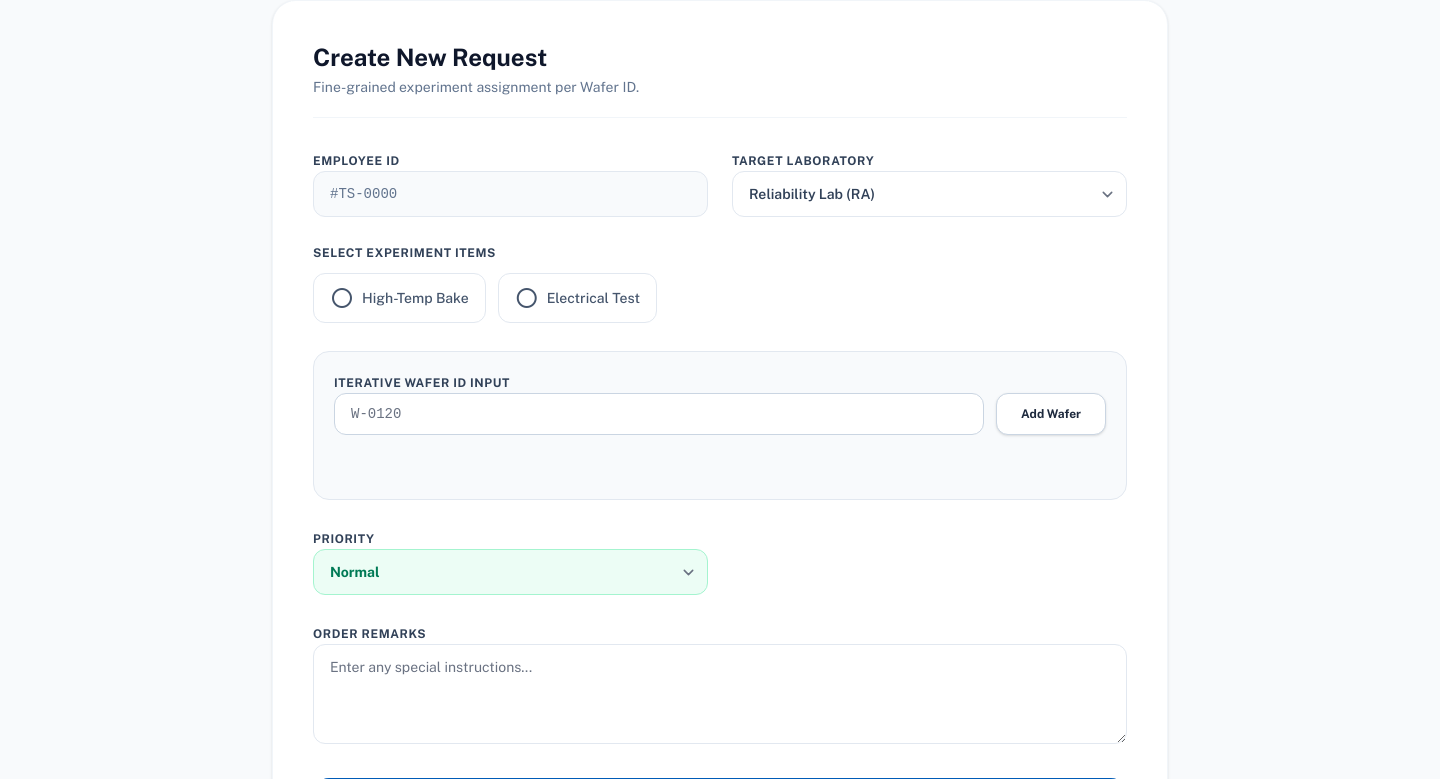
Test case: FabRequestView - Enterprise Order Provisioning Testing Suite › should prevent submission if no experiments are selected
Type "W-1111" into the field with placeholder "W-0120" at (659, 414), box [334,393,984,435]
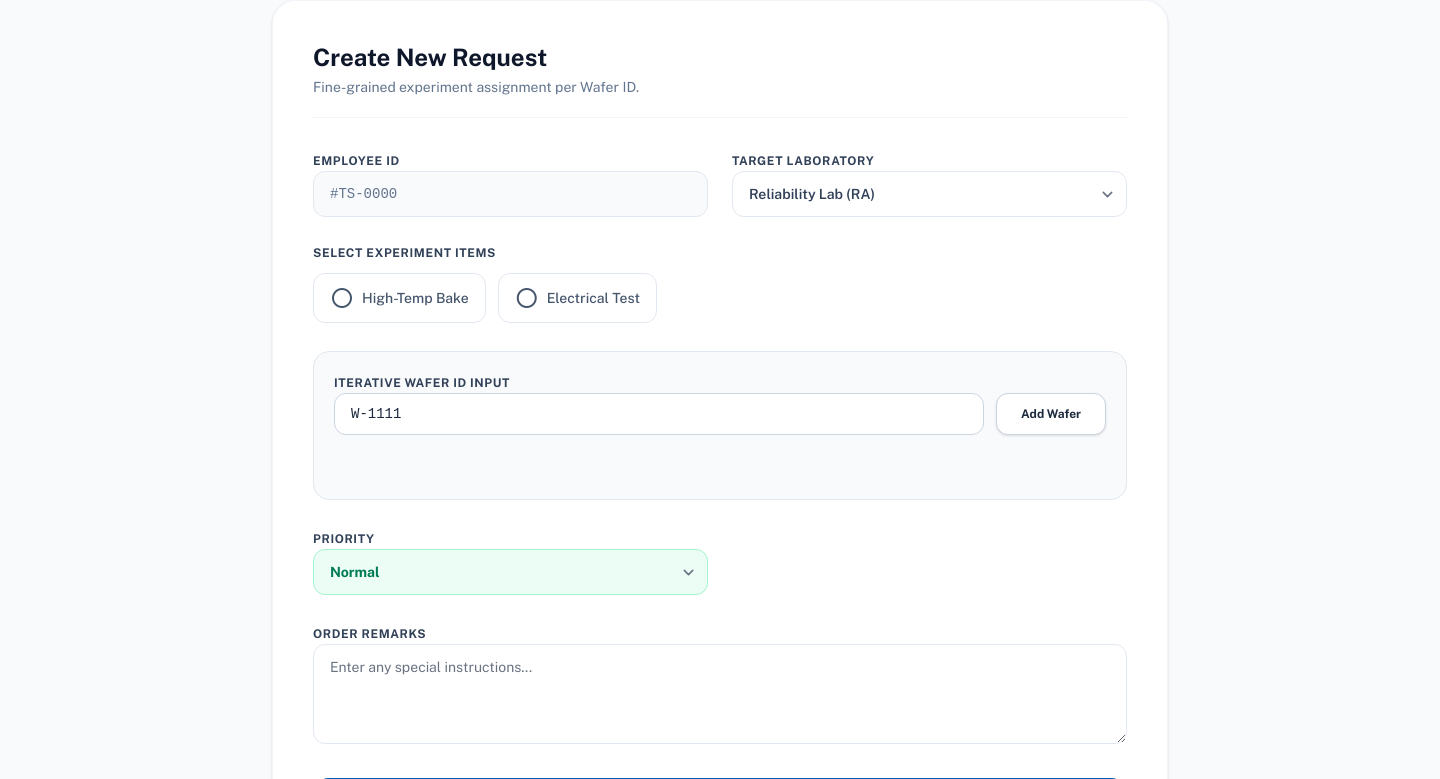
Click the button "Add Wafer" at (1051, 414), box [996,393,1106,435]
(page scrolled)
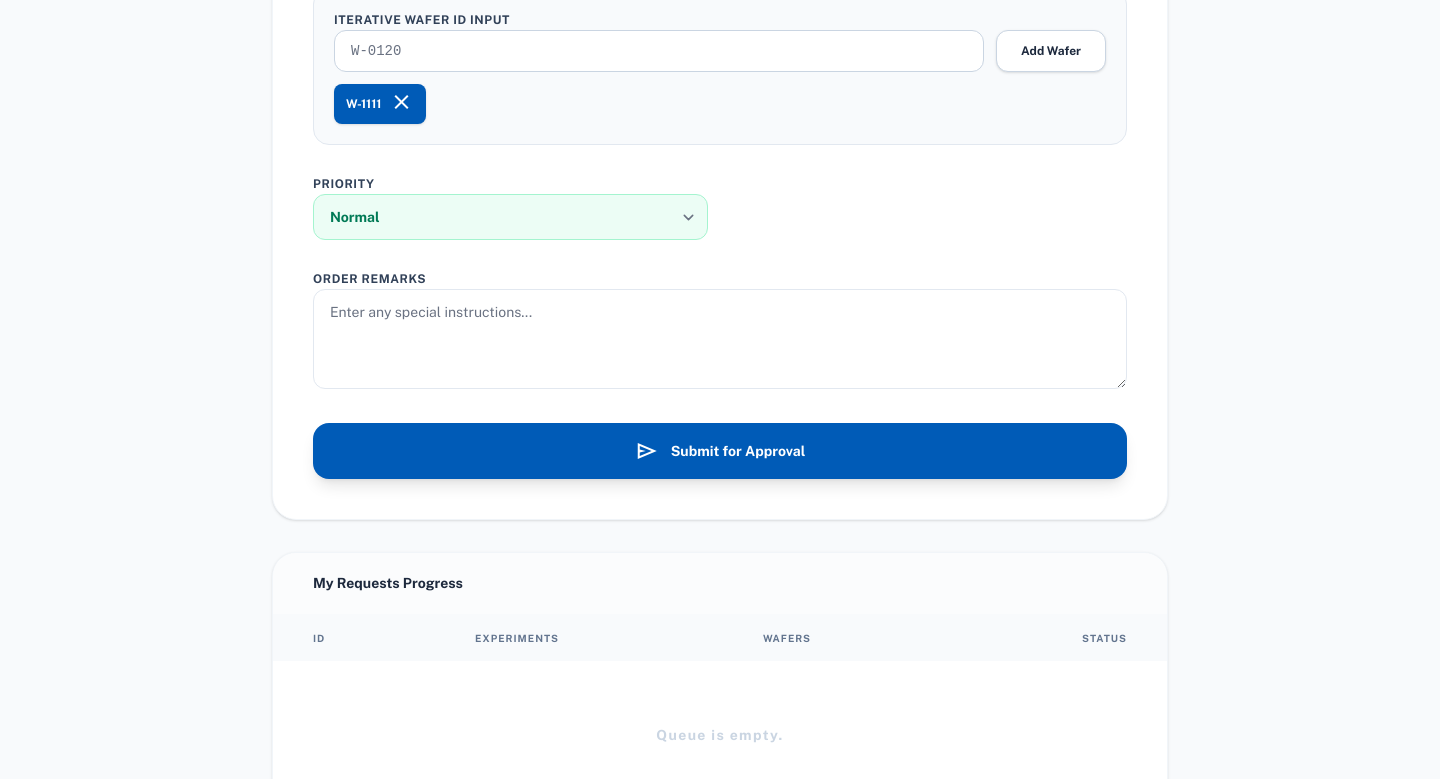
Click the button "Submit for Approval" at (720, 451), box [313,423,1127,479]
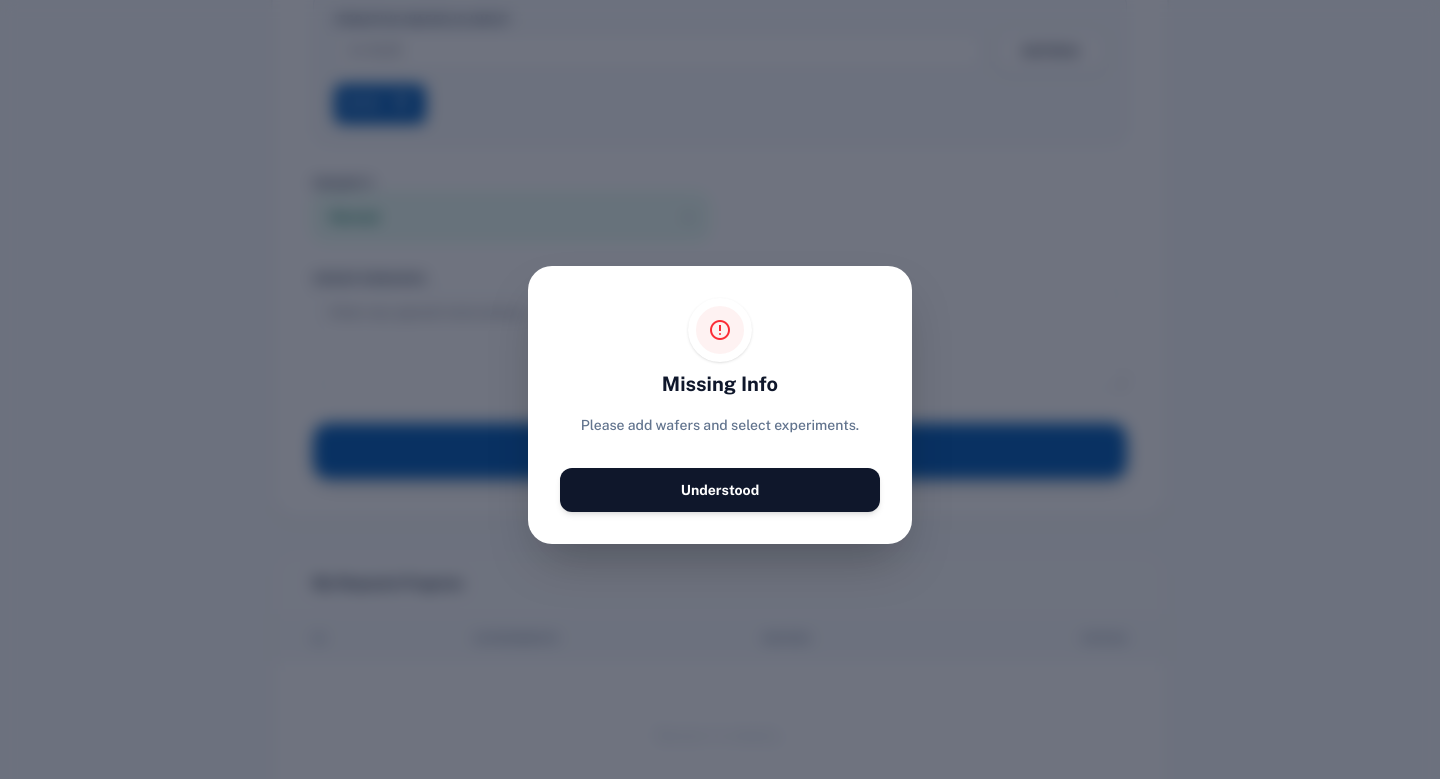
Result: the heading "Missing Info" is shown at [662,372,778,396]
